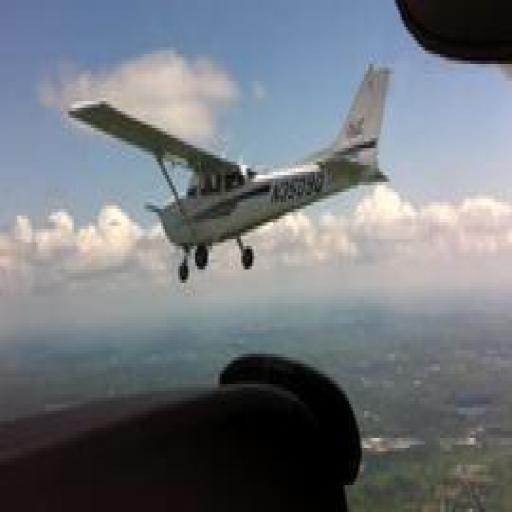aircraft: (67, 63, 392, 284)
